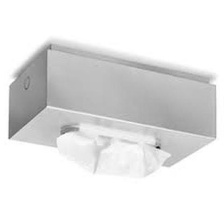book: (2, 39, 222, 173)
tissue: (51, 119, 175, 184)
